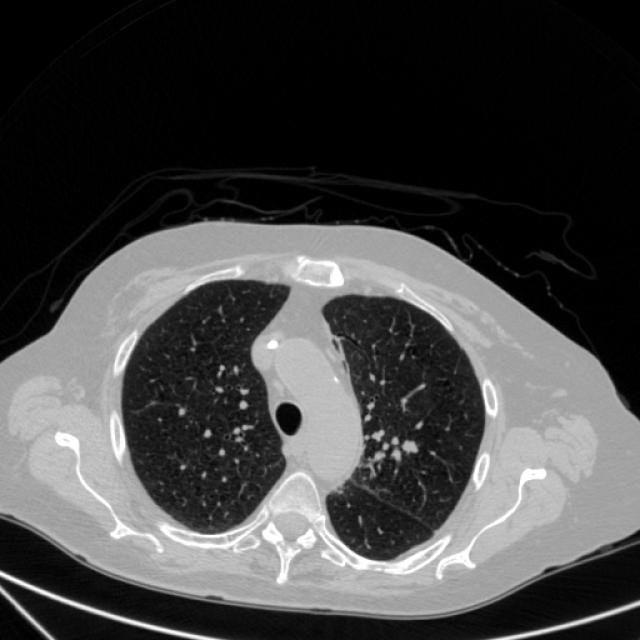nodule: (390, 428, 425, 464)
